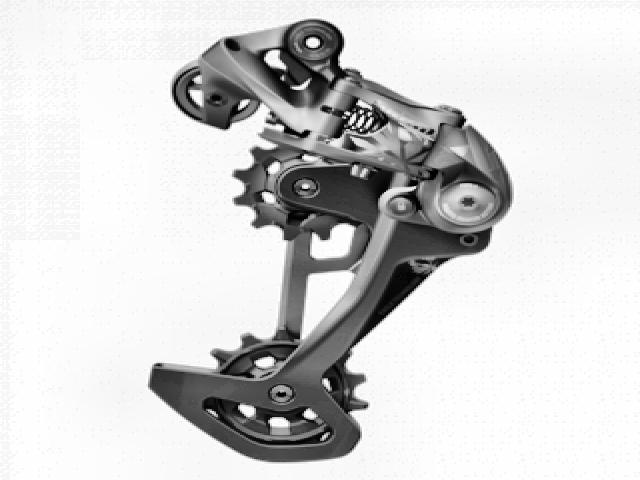rear_derailleur: (146, 16, 515, 467)
